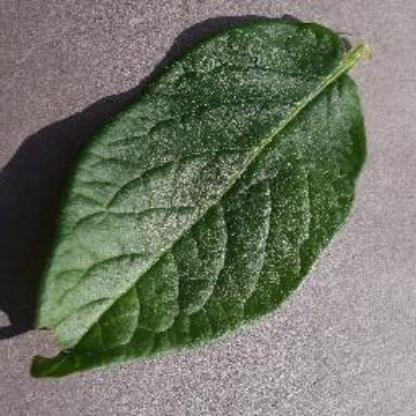Healthy-plant: (23, 21, 368, 381)
